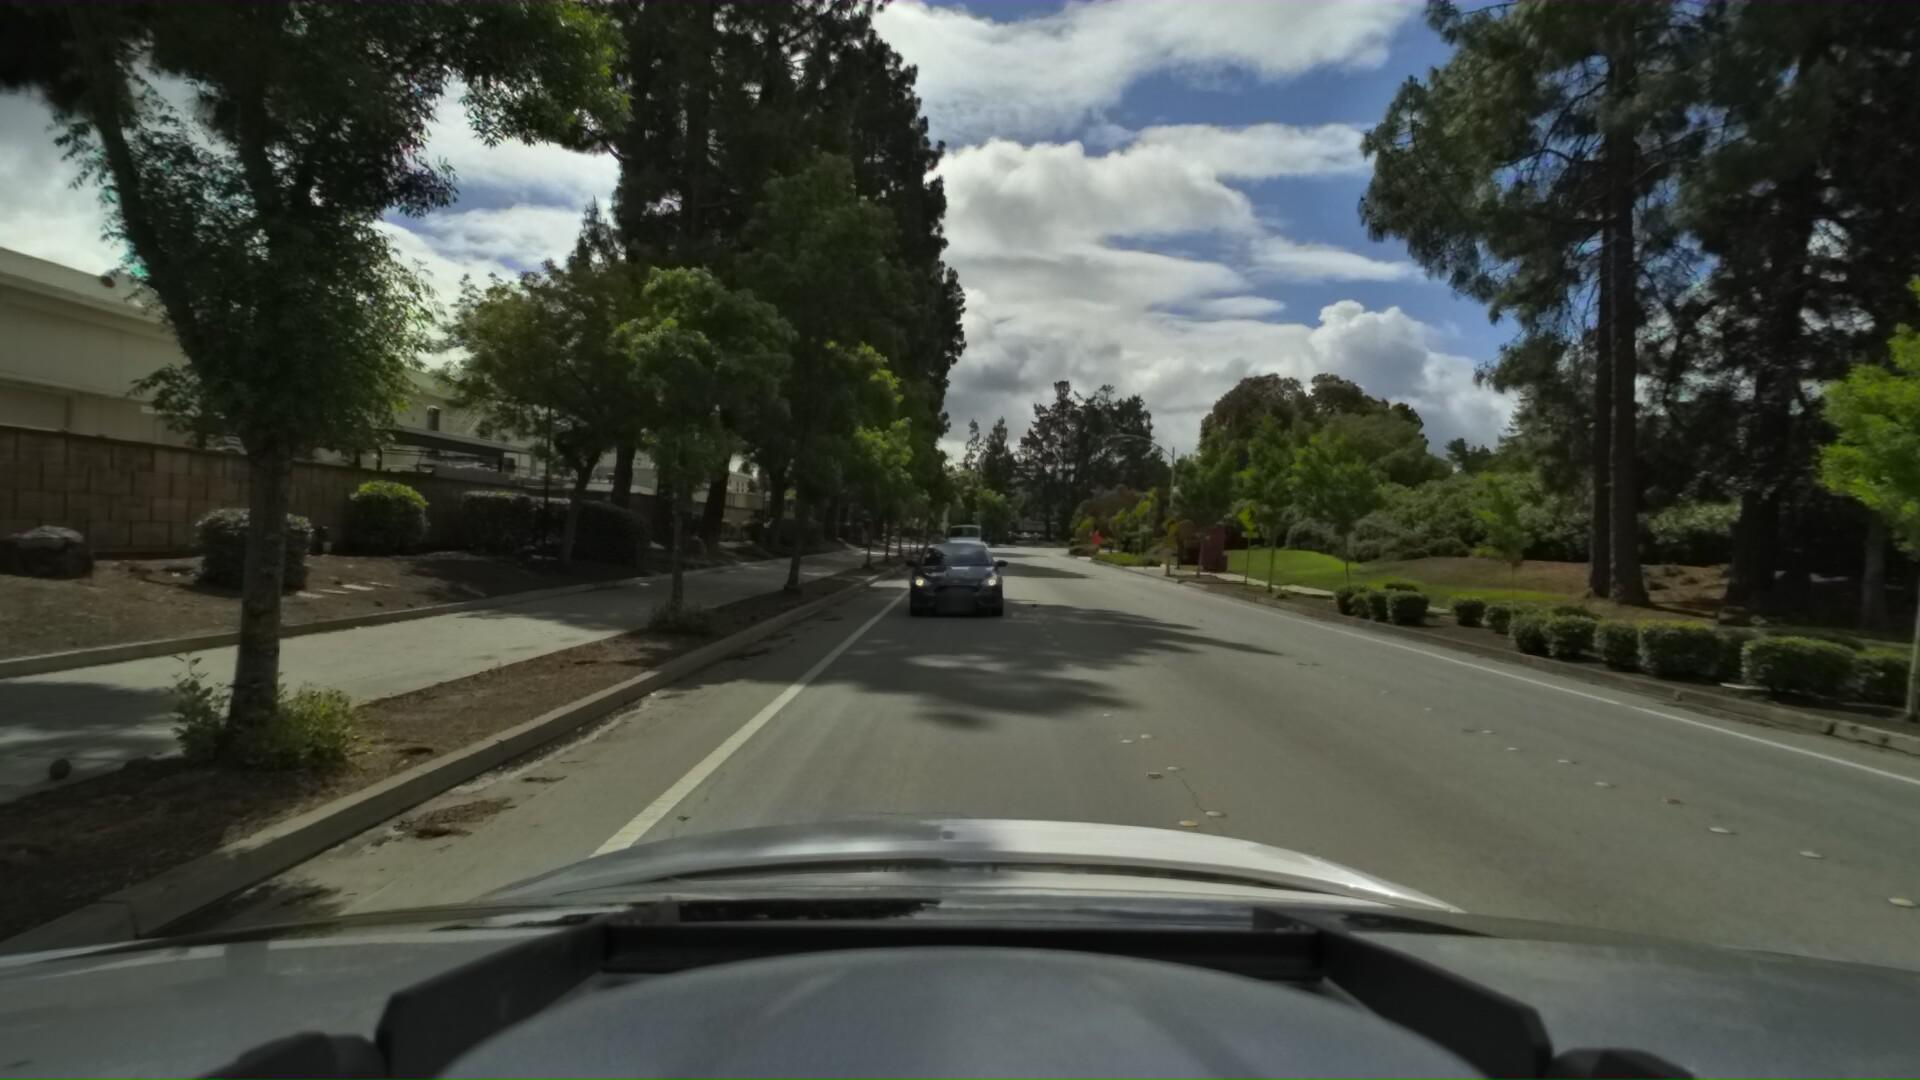car: (893, 530, 1009, 632), (942, 516, 982, 560)
